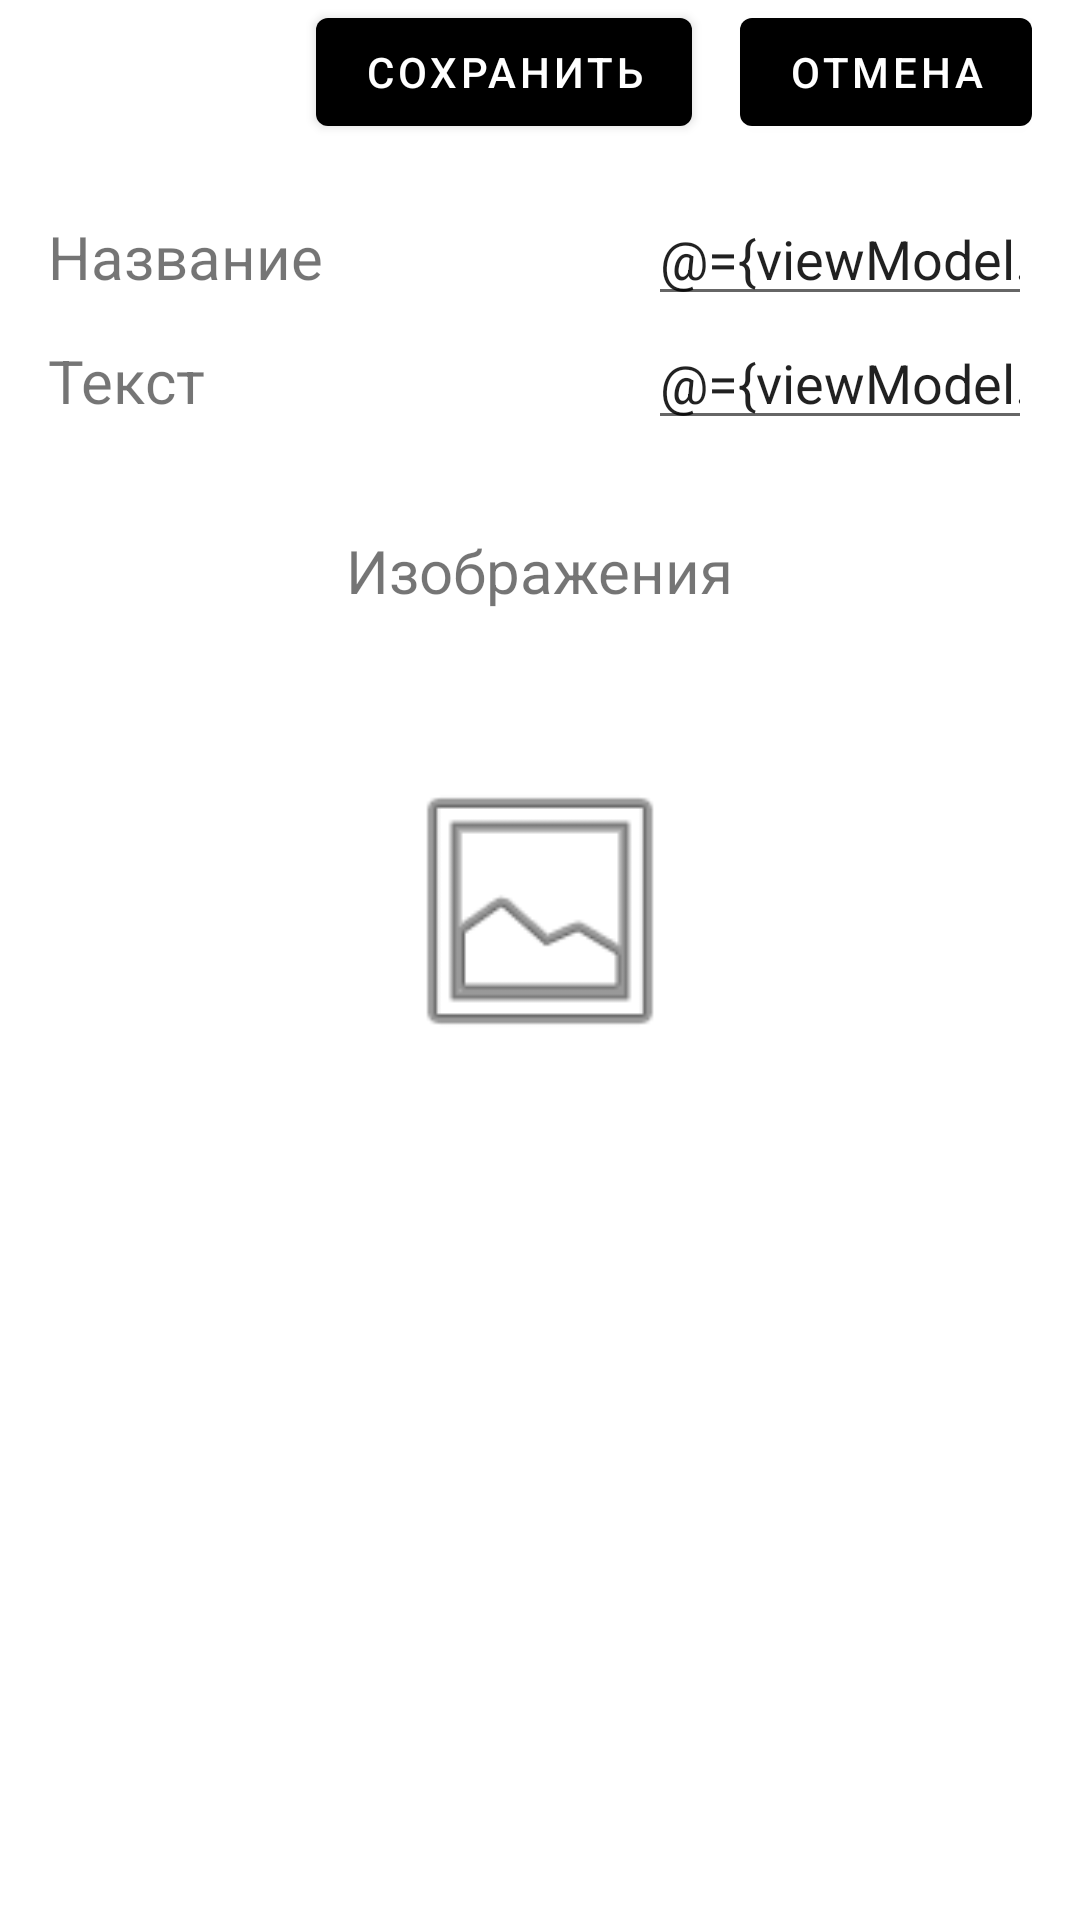

Icon click points for this 1080px×1920px phone screenshot, format (x=x, y=y):
gallery: (x=540, y=911)
